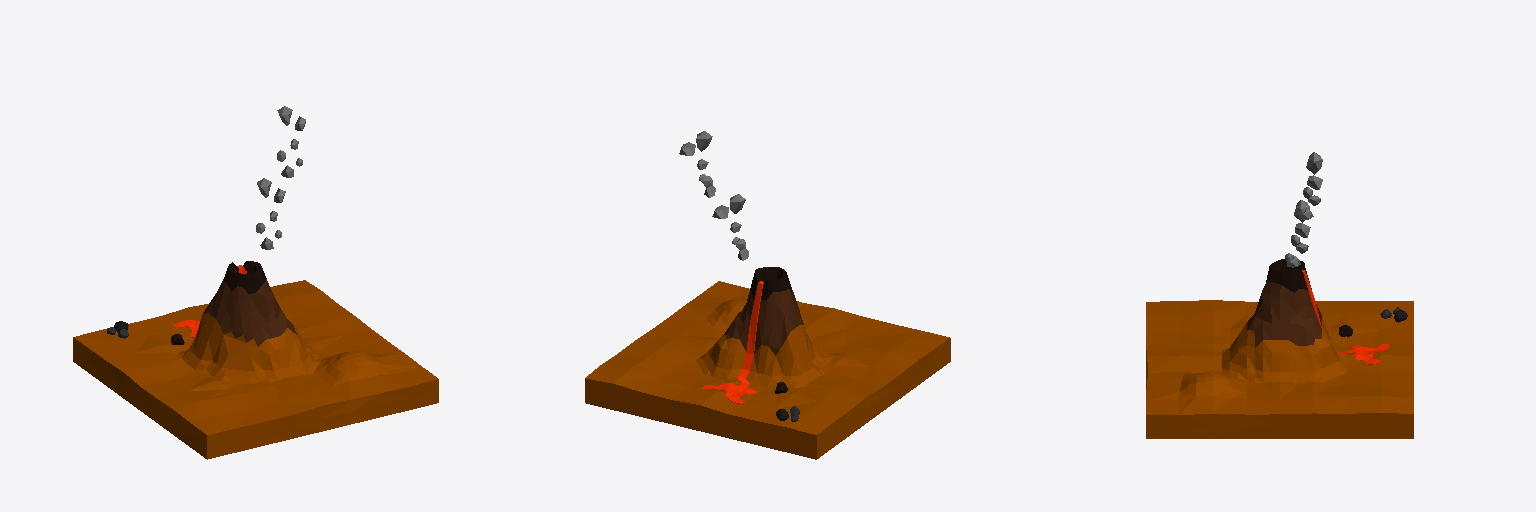
3 renders of one model, left to right at view 1: azimuth 30°, elevation 25°; view 2: azimuth 150°, elevation 25°; view 3: azimuth 270°, elevation 25°, orthographic.
Parts seen in each view (by area): view 1: volcano_平面; view 2: volcano_平面, lava_平面.001; view 3: volcano_平面, lava_平面.001.
Part boxes in pixels (left/top/right/bottom): volcano_平面: left=73, top=261, right=438, bottom=459; volcano_平面: left=585, top=267, right=950, bottom=459; lava_平面.001: left=702, top=281, right=763, bottom=404; volcano_平面: left=1146, top=259, right=1413, bottom=438; lava_平面.001: left=1302, top=270, right=1388, bottom=364.
Bounding box in the file's own units: 20.04 × 20.85 × 20.05.
Materials: 1 (1 with a texture image).